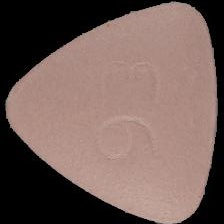0093-5126: (0, 0, 224, 224)
